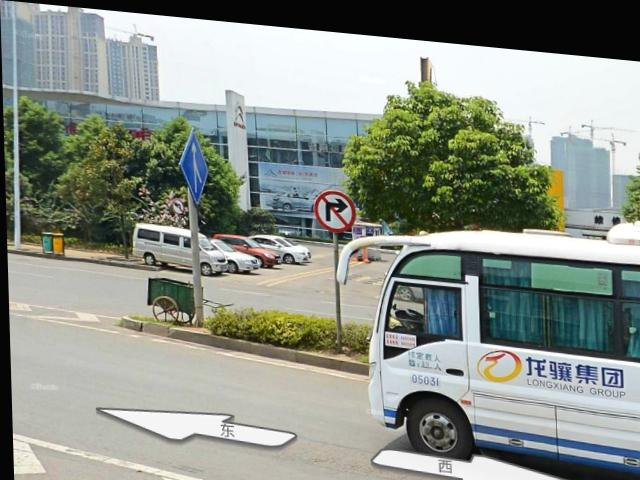not_turn_right: (308, 182, 359, 232)
